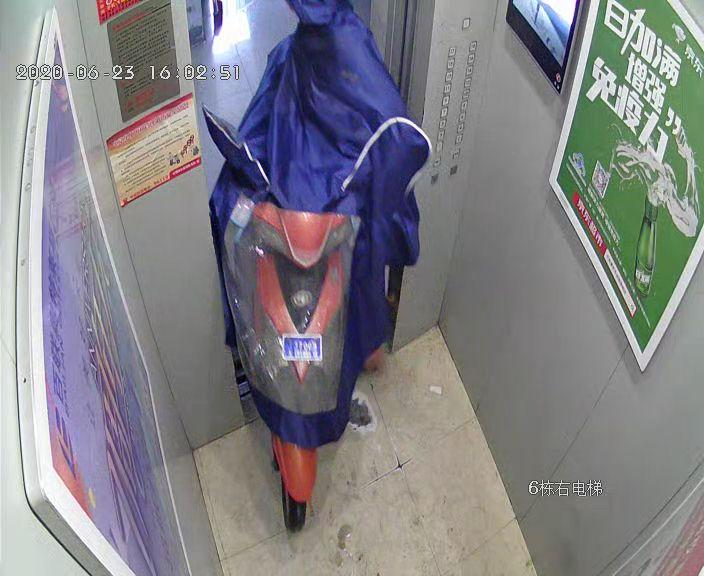Electric-bicycle: (224, 185, 375, 531)
